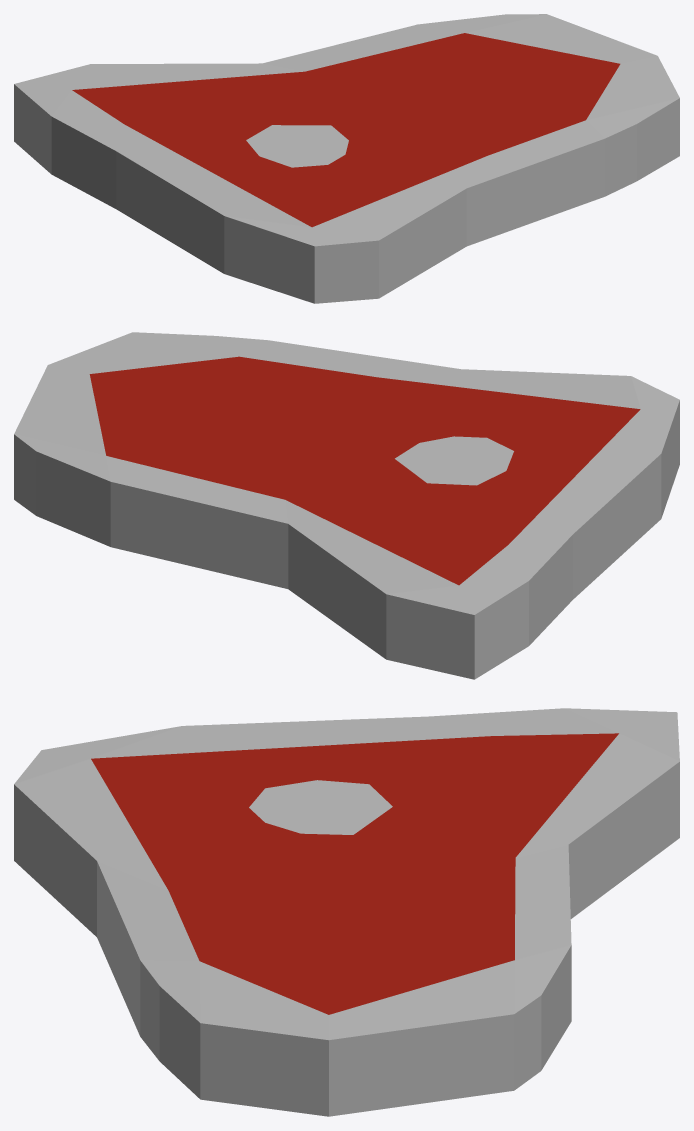
Rendered from Beef.glb.
3 renders of one model, top to bottom at view 1: azimuth 30°, elevation 25°; view 2: azimuth 150°, elevation 25°; view 3: azimuth 270°, elevation 25°, orthographic. The views are drawn at different scales.
Parts seen in each view (by area): view 1: Cube; view 2: Cube; view 3: Cube.
Part boxes in pixels (bbox=[...]): Cube: bbox=[14, 14, 679, 303]; Cube: bbox=[14, 332, 679, 679]; Cube: bbox=[14, 708, 679, 1116].
Size of the model in its own units: 0.525 by 0.0584 by 0.4451.
